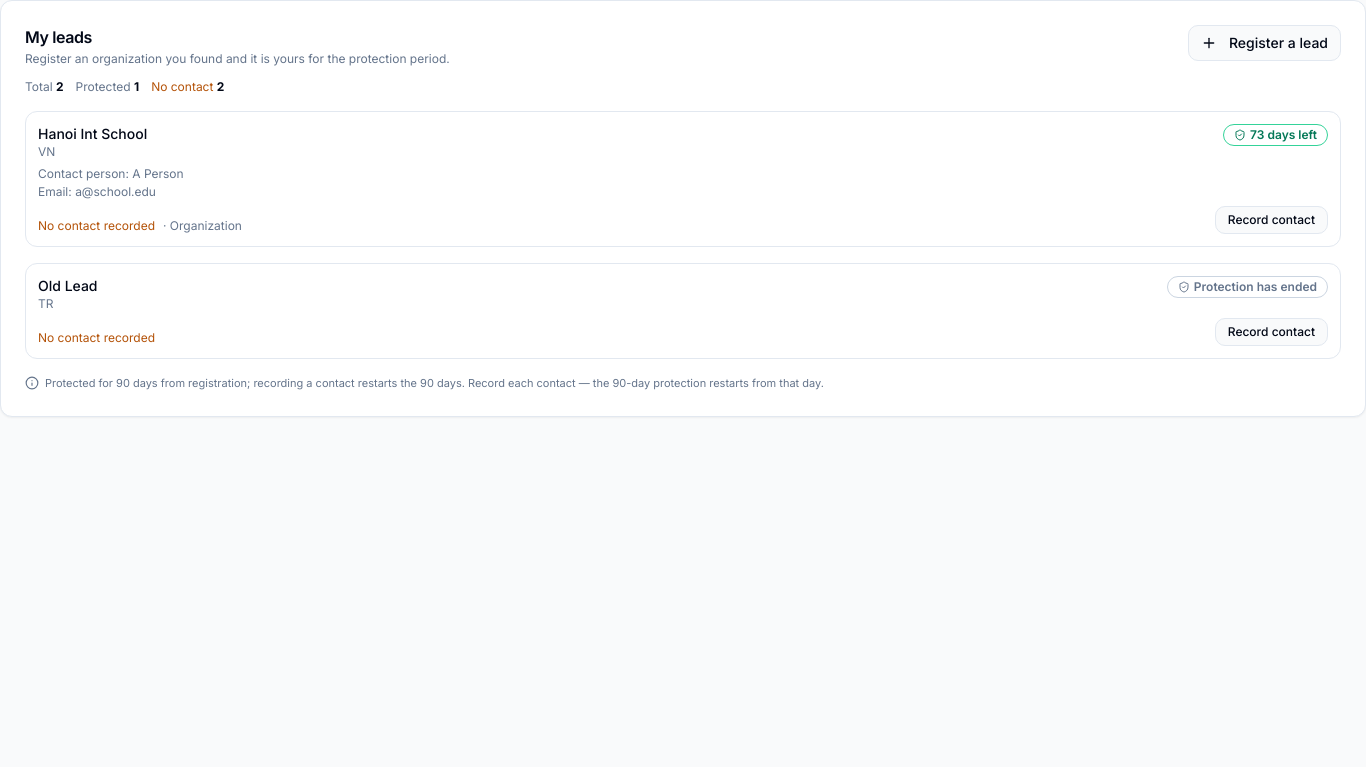
Scenario: 내 리드 화면 › 파트너 대행이면 동의 없이 보낼 수 있고, 안내가 뜬다
Later steps or results of the test are not shown.
Expected: the text "Hanoi Int School" is shown, x1=38 y1=124 x2=147 y2=144
Click the button "Register a lead" at coordinates (1264, 43), box x1=1188 y1=25 x2=1341 y2=61
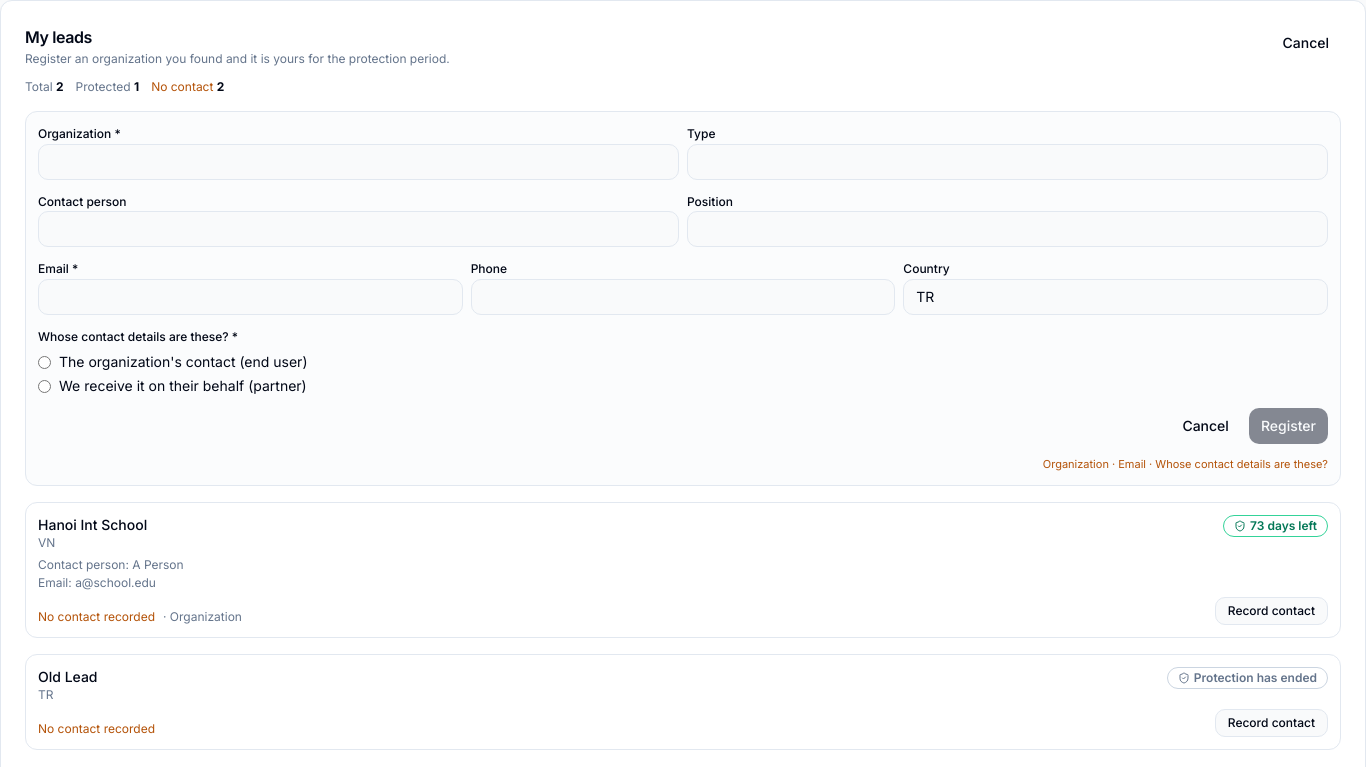
Type "New School" into the field below "Organization *" at coordinates (358, 162), box x1=38 y1=144 x2=679 y2=180
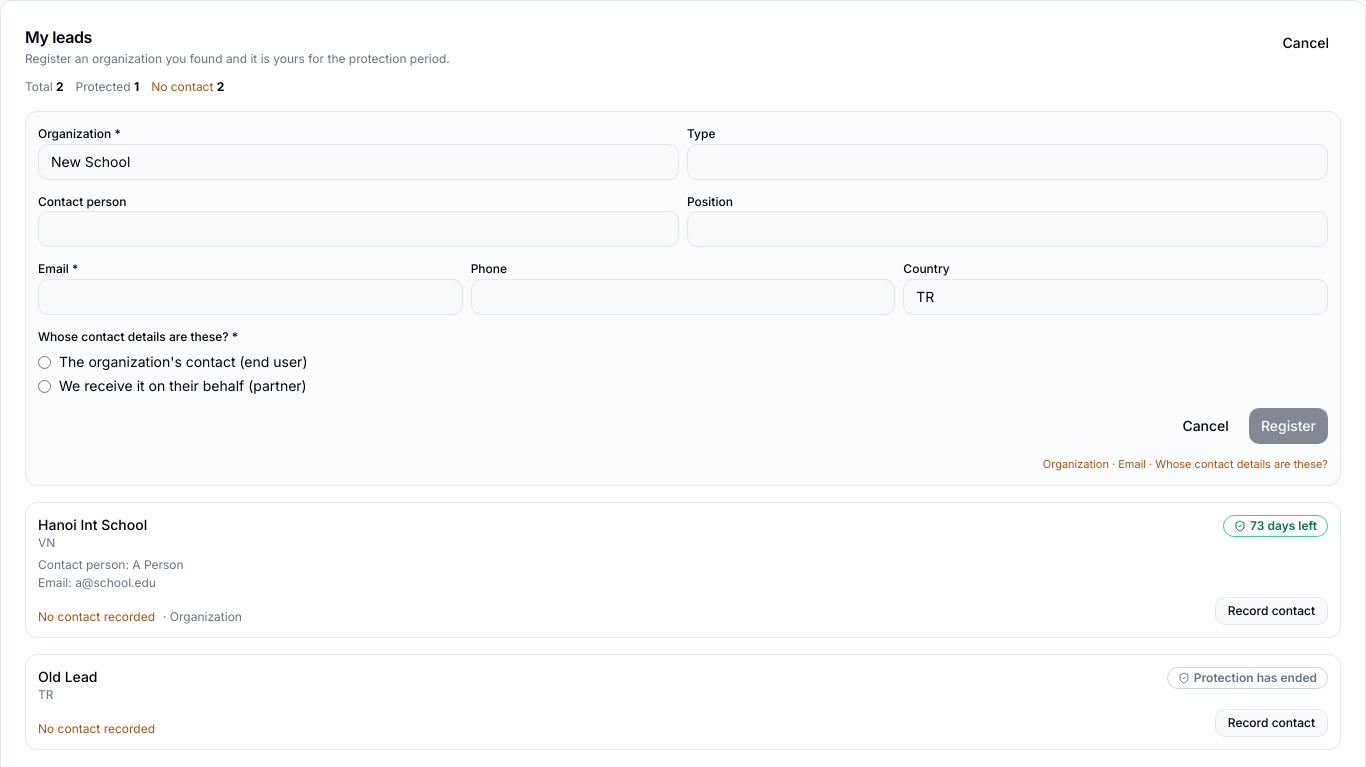
Type "new@school.edu" into the field below "Email *" at coordinates (250, 296), box x1=38 y1=278 x2=463 y2=314
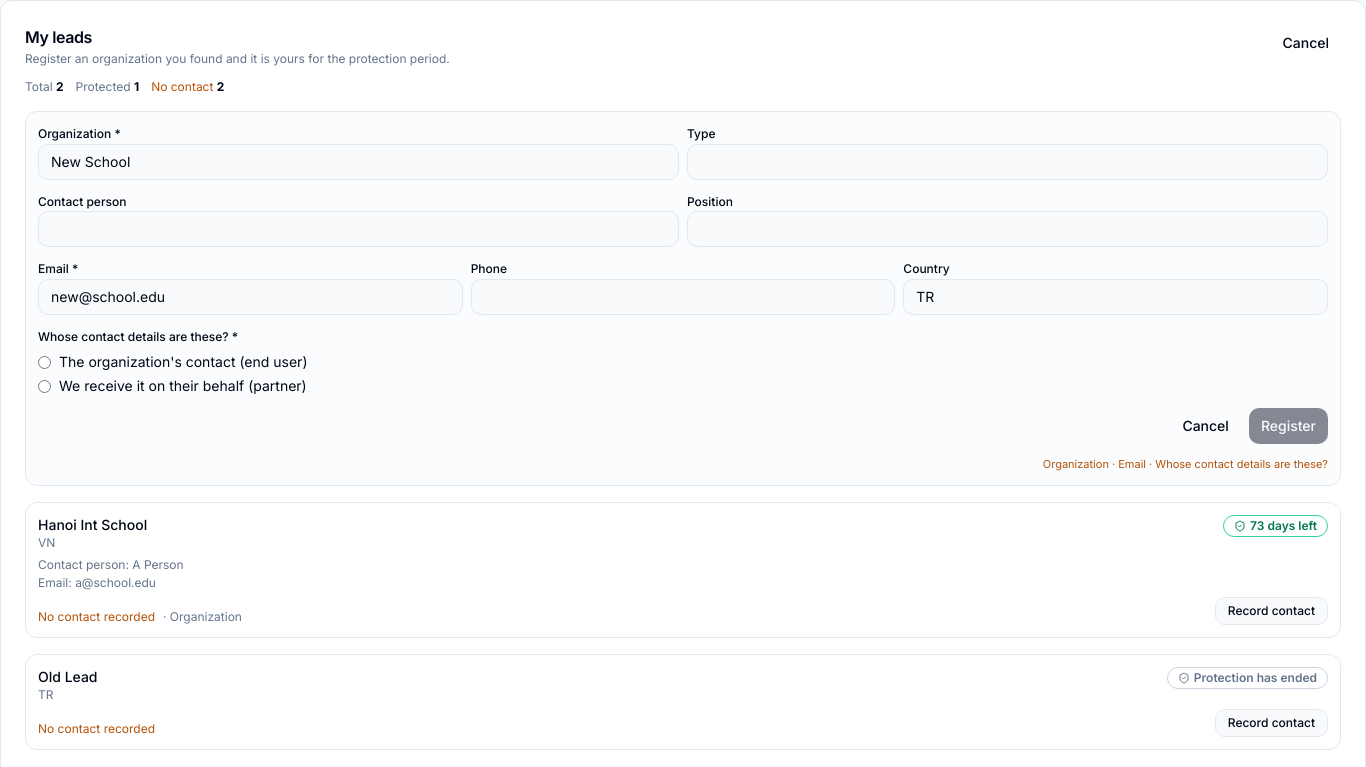
Click the radio button labelled "We receive it on their behalf (partner)" at coordinates (44, 386), box x1=38 y1=380 x2=51 y2=392
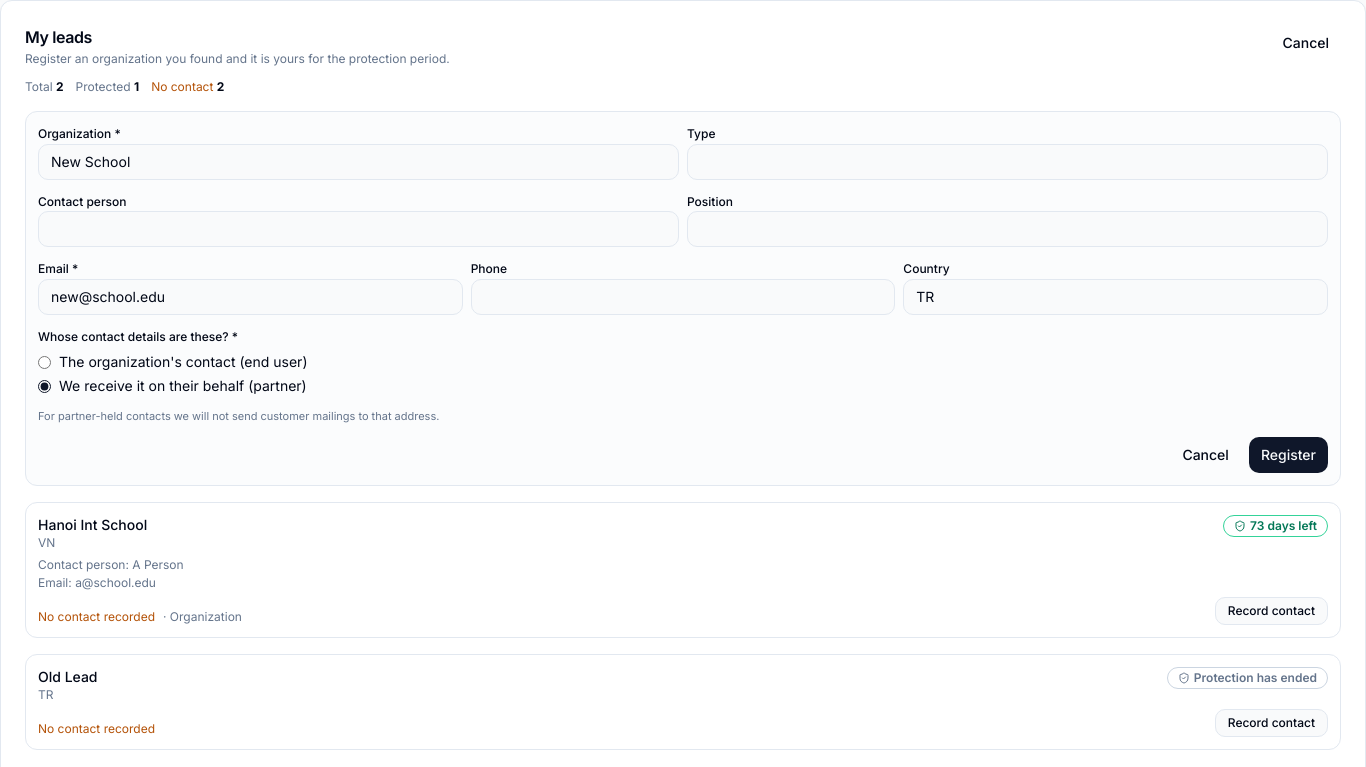
Expected: the text "will not send customer mailings" is shown, x1=38 y1=409 x2=439 y2=423
Expected: the button "Register" is enabled, x1=1249 y1=436 x2=1328 y2=472
